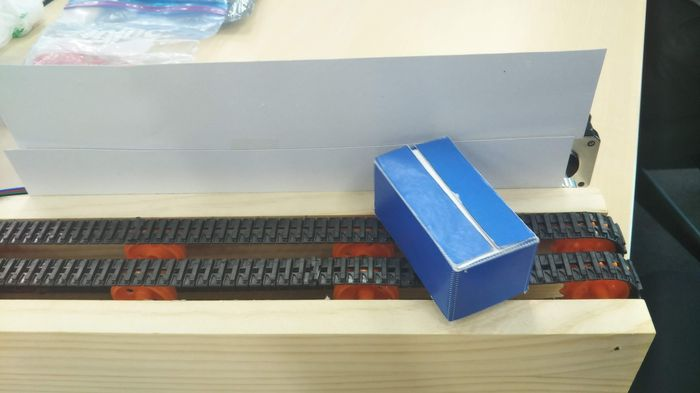box3: (369, 133, 540, 321)
